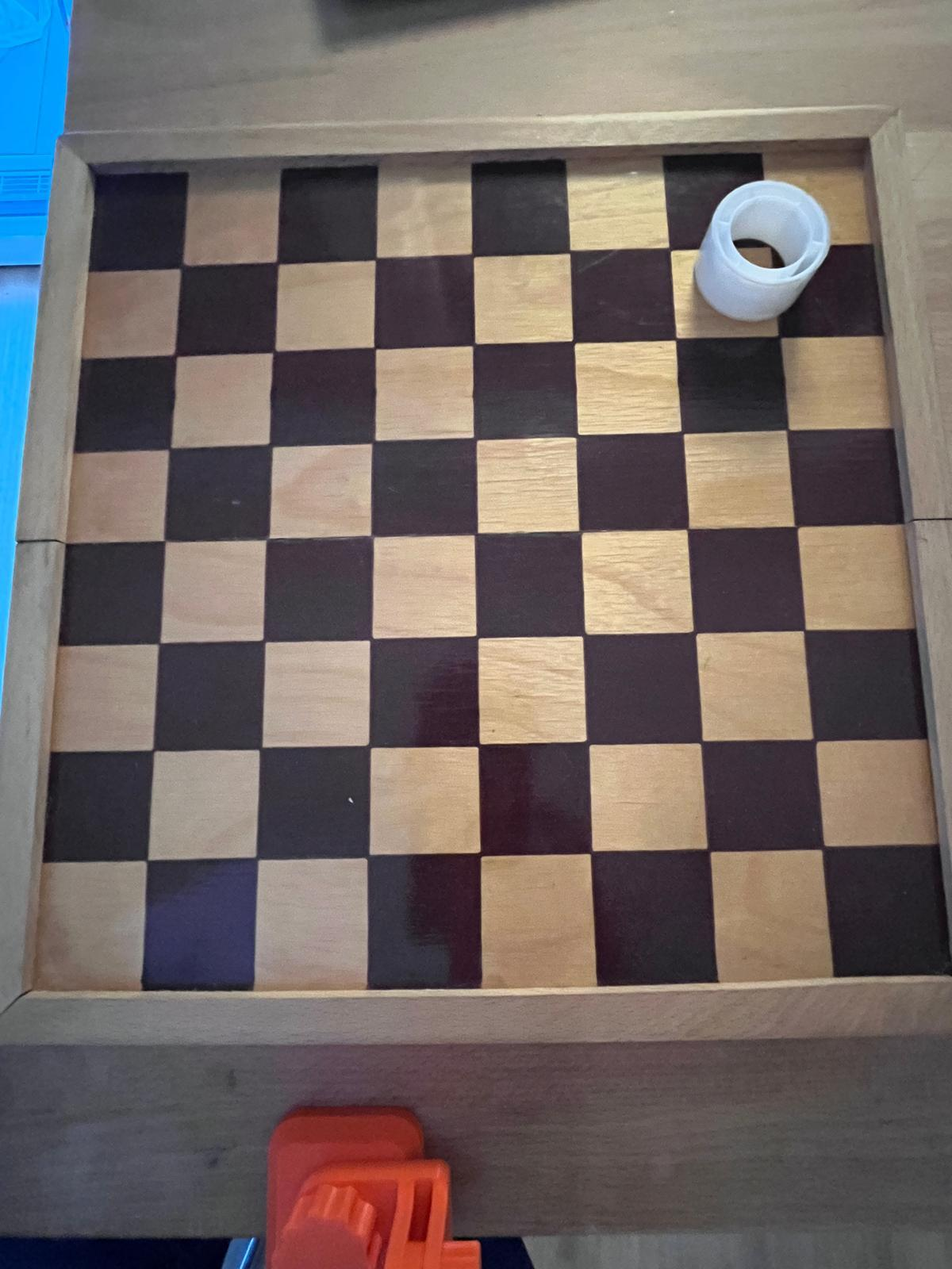tape: (695, 173, 827, 324)
